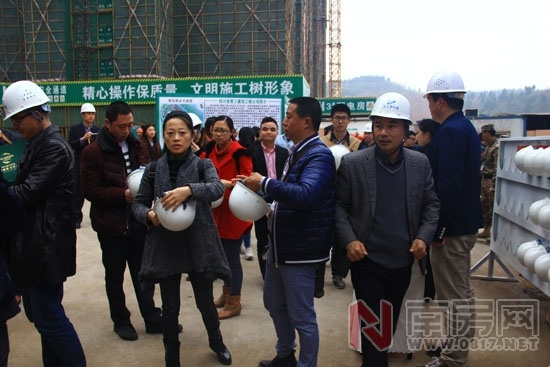none: (281, 95, 323, 144), (161, 109, 193, 155), (103, 97, 135, 141), (328, 102, 353, 134), (209, 115, 233, 145), (257, 114, 279, 145), (143, 123, 156, 141)
white: (2, 77, 54, 140), (367, 91, 415, 152), (423, 67, 468, 123), (79, 100, 96, 123)
